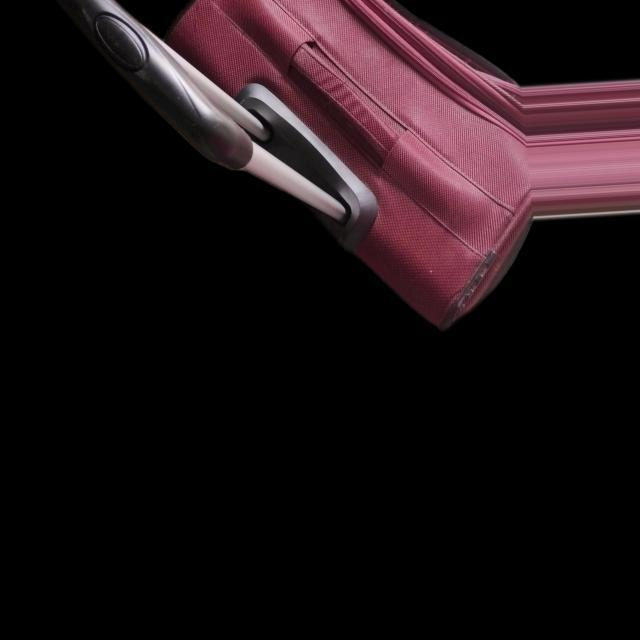Suitcase: (60, 0, 532, 343)
